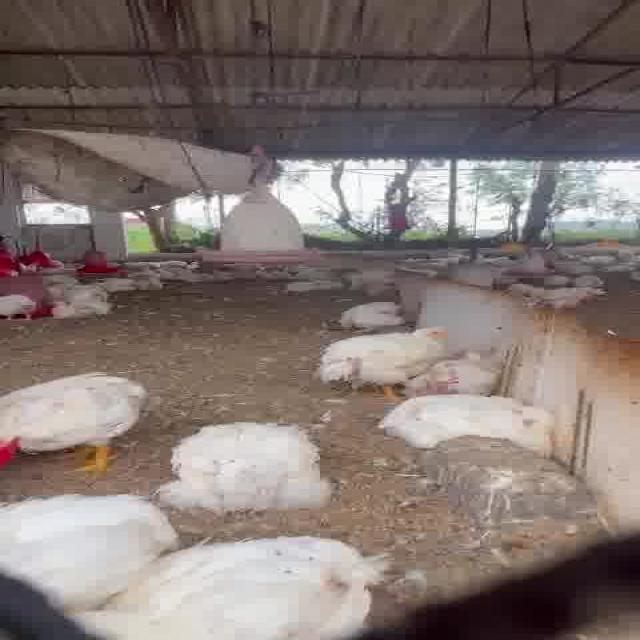AbNormal: (86, 535, 368, 640), (1, 496, 183, 594), (163, 418, 330, 514), (389, 392, 552, 450), (390, 354, 500, 388), (342, 302, 411, 326)
Normal: (0, 370, 146, 471), (296, 324, 479, 388)
